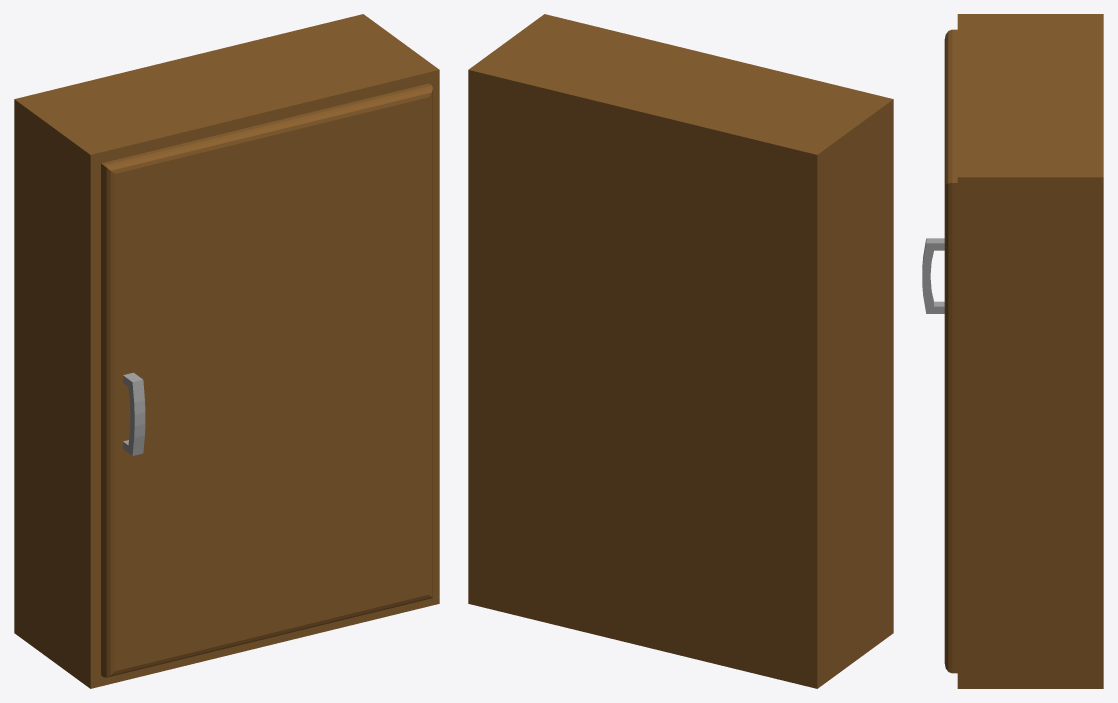
Rendered from Rt Single Wardrobe.fbx.
The picture shows the model from 3 angles, left to right: view 1: azimuth 30°, elevation 25°; view 2: azimuth 150°, elevation 25°; view 3: azimuth 270°, elevation 25°; orthographic projection. The views are drawn at different scales.
Visible parts, largest first — view 1: Rt Single Wardobe Door, Rt Single Wardobe; view 2: Rt Single Wardobe; view 3: Rt Single Wardobe, Rt Single Wardobe Door.
Part boxes in pixels (x1,y1,x2,y2): Rt Single Wardobe Door: [101, 83, 432, 677]; Rt Single Wardobe: [14, 14, 439, 688]; Rt Single Wardobe: [468, 14, 893, 688]; Rt Single Wardobe: [957, 14, 1103, 688]; Rt Single Wardobe Door: [922, 29, 957, 673].
Bounding box in the file's own units: 0.5691 × 0.8318 × 0.2675.
